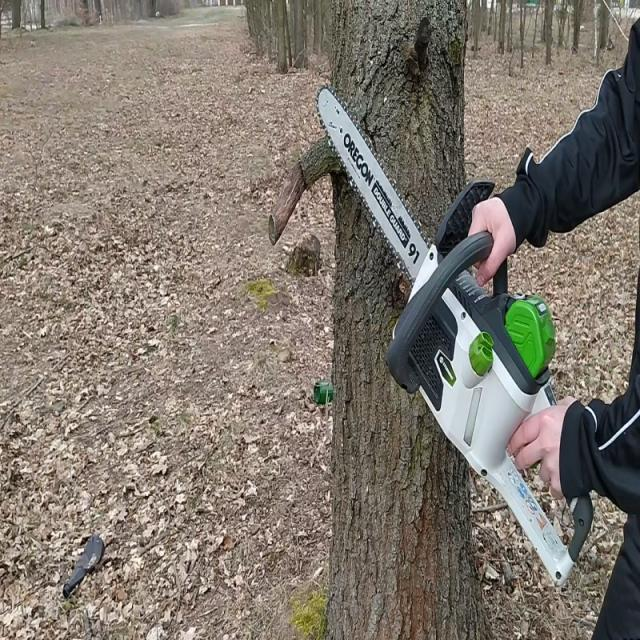Chainsaw: (312, 78, 599, 590)
